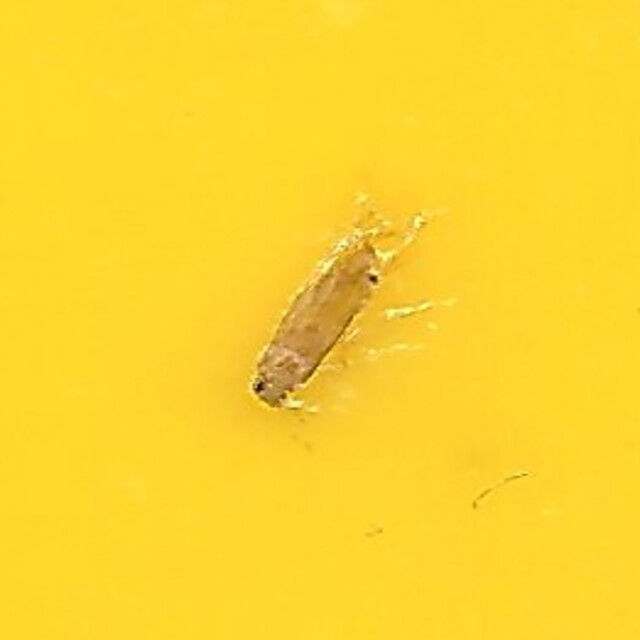Trichoptera: (245, 213, 395, 427)
